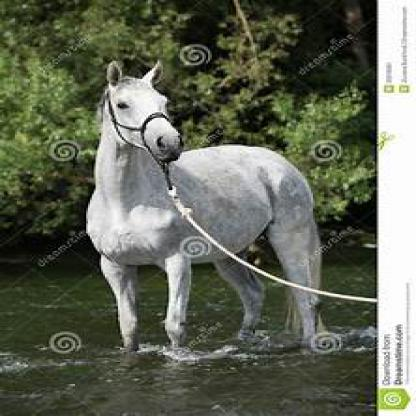horse: (88, 60, 326, 359)
